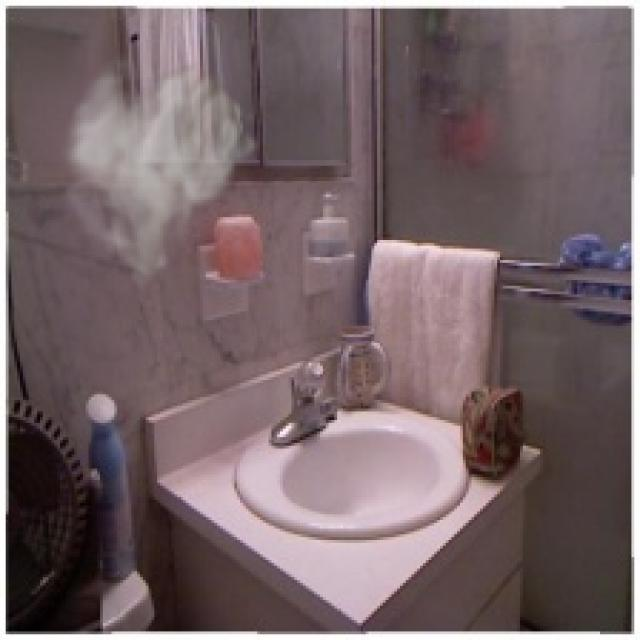smoke: (57, 40, 260, 297)
